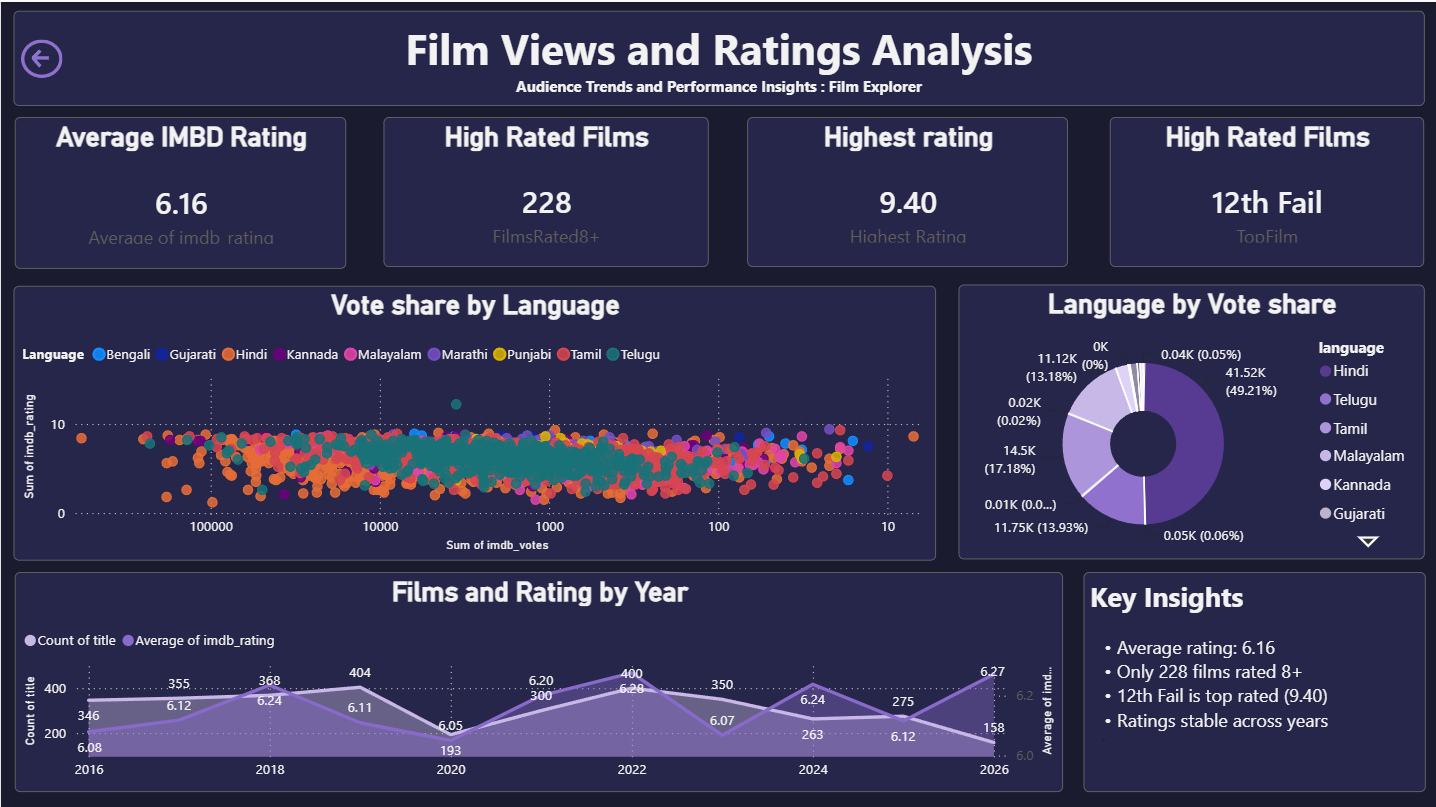

What the dashboard file says about the page in this screenshot:
{"tool":"powerbi","page":{"name":"Film Explorer","canvas":[1280,720],"ordinal":1},"visuals":[{"type":"textbox","box":[11,8.2,1257,85.1],"z":0},{"type":"areaChart","title":"Films and Rating by Year","fields":{"Category":["project film.year"],"Y":["CountNonNull(project film.title)"],"Y2":["Avg(project film.imdb_rating)"]},"box":[12.1,507.9,933.8,196.2],"z":1000},{"type":"donutChart","title":"Language by Vote share","fields":{"Category":["project highratedfilmcount.language","project totalvotes.language"],"Y":["project candratingbyreyear.Votes per Film","Sum(project highratedfilmcount.high_rated_films)","Sum(project totalvotes.total_votes)","Sum(project totalvotes.vote_share_pct)"]},"box":[852.5,251.2,415,245],"z":2000},{"type":"actionButton","box":[17.8,32.9,37,34.3],"z":3000},{"type":"cardVisual","title":"Average IMBD Rating","fields":{"Data":["Avg(project film.imdb_rating)"]},"box":[12.1,102.5,295.6,135.1],"z":4000},{"type":"cardVisual","title":"High Rated Films","fields":{"Data":["project film.FilmsRated8+"]},"box":[340.2,102.5,289.5,133.9],"z":5000},{"type":"cardVisual","title":"Highest rating","fields":{"Data":["project film.Highest Rating"]},"box":[664.7,102.5,285.9,133.9],"z":6000},{"type":"cardVisual","title":"High Rated Films","fields":{"Data":["project candratingbyreyear.TopFilm"]},"box":[986.9,102.5,279.9,133.9],"z":7000},{"type":"scatterChart","title":"Vote share by Language","fields":{"X":["Sum(project film.imdb_votes)"],"Y":["Sum(project film.imdb_rating)"],"Series":["project film.Language"],"Category":["project film.title"]},"box":[10.9,252.1,821.2,245],"z":8000},{"type":"textbox","box":[963.8,507.5,305,196.2],"z":11000}]}

Visuals, with their boxes in screenshot pixels (x1, y1, x2, y2), scaled from the page's 1280x720 canvas onto the 1436x807 screenshot:
textbox: 12/9/1423/105
"Films and Rating by Year" areaChart: 14/569/1061/789
"Language by Vote share" donutChart: 956/282/1422/556
actionButton: 20/37/61/75
"Average IMBD Rating" cardVisual: 14/115/345/266
"High Rated Films" cardVisual: 382/115/706/265
"Highest rating" cardVisual: 746/115/1066/265
"High Rated Films" cardVisual: 1107/115/1421/265
"Vote share by Language" scatterChart: 12/283/934/557
textbox: 1081/569/1423/789
